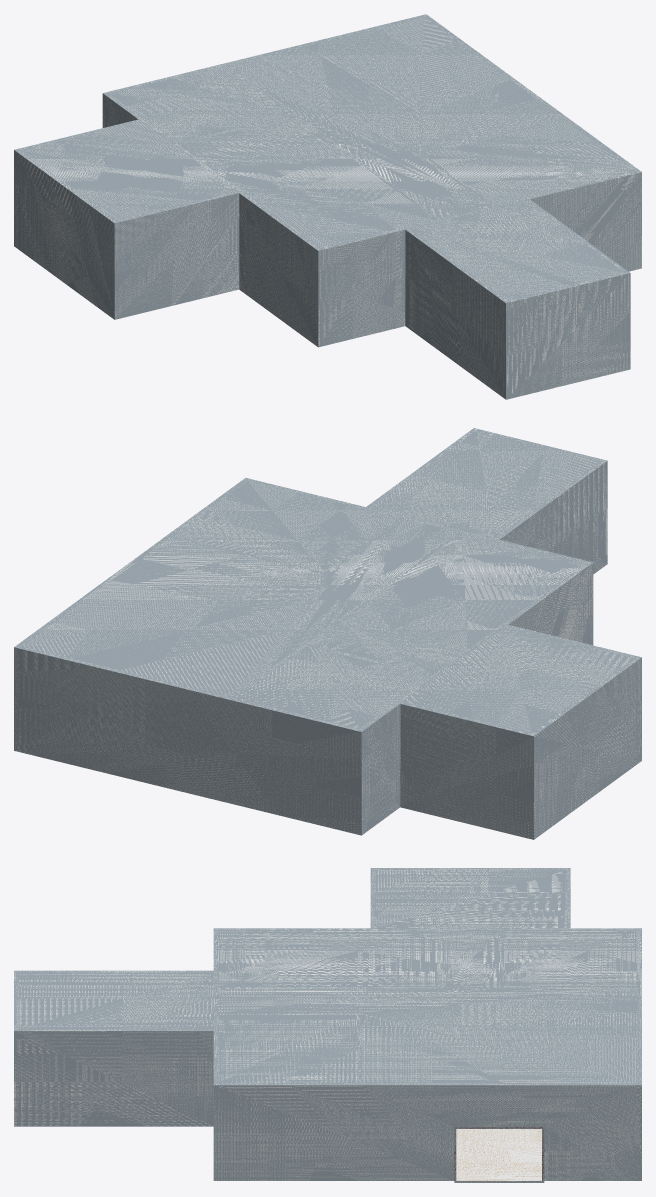
The model's file is Rumah Jabar.fbx.
3 renders of one model, top to bottom at view 1: azimuth 30°, elevation 25°; view 2: azimuth 150°, elevation 25°; view 3: azimuth 270°, elevation 25°, orthographic. The views are drawn at different scales.
Parts seen in each view (by area): view 1: Model; view 2: Model; view 3: Model.
Part boxes in pixels (<box>): Model: <box>14,14,641,399</box>; Model: <box>14,428,641,839</box>; Model: <box>14,868,641,1182</box>.
Size of the model in its own units: 18 by 3.78 by 22.
